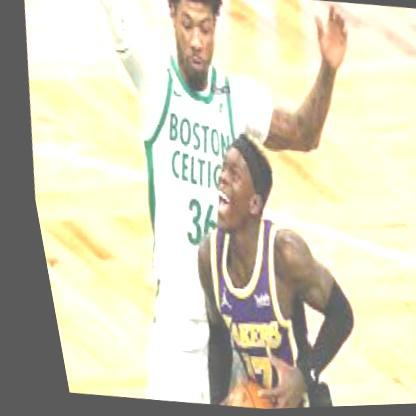basketball: (208, 376, 261, 410)
